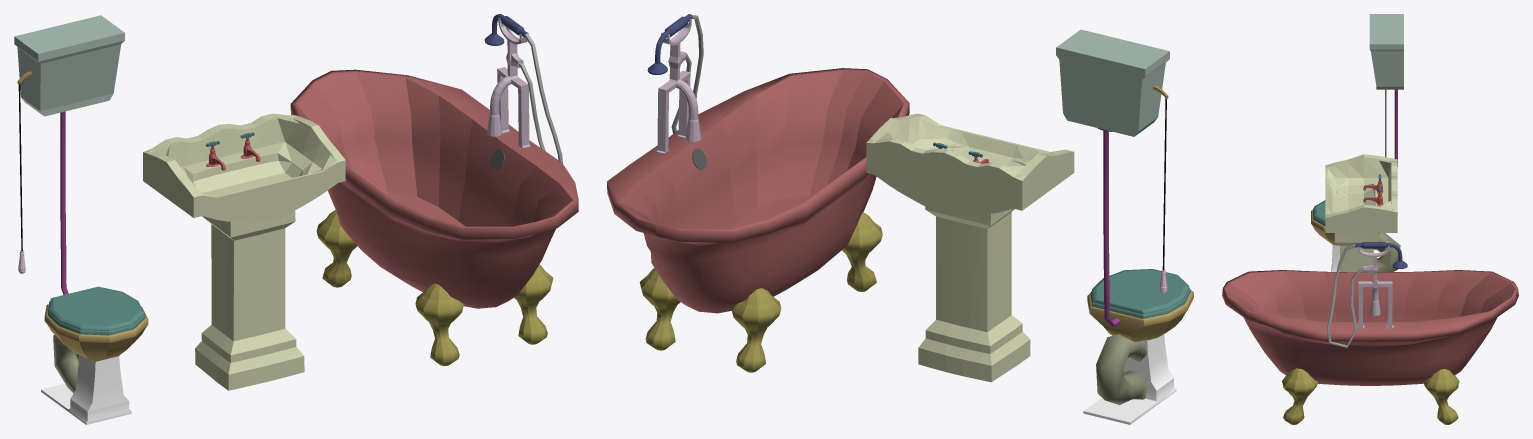
The model's file is BathroomAssets_UVDone.fbx.
3 renders of one model, left to right at view 1: azimuth 30°, elevation 25°; view 2: azimuth 150°, elevation 25°; view 3: azimuth 270°, elevation 25°, orthographic. The views are drawn at different scales.
Visible parts, largest first — view 1: Bath_Unwrapped:Bath_Body, Sink_Unwrapped_Done:Sink_Body, Toilet_Unwrapped:Toilet_AboveFlush, Toilet_Unwrapped:Toilet_Top, Toilet_Unwrapped:Toilet_Base, Bath_Unwrapped:Shower_Holder, Bath_Unwrapped:Bath_Leg1, Bath_Unwrapped:Bath_Leg3, Bath_Unwrapped:Bath_Leg2, Bath_Unwrapped:Shower_Head_Wire, Toilet_Unwrapped:Toilet_FlushPipe, Toilet_Unwrapped:Toilet_Drain (+1 smaller); view 2: Bath_Unwrapped:Bath_Body, Sink_Unwrapped_Done:Sink_Body, Toilet_Unwrapped:Toilet_AboveFlush, Toilet_Unwrapped:Toilet_Top, Toilet_Unwrapped:Toilet_Base, Bath_Unwrapped:Shower_Holder, Toilet_Unwrapped:Toilet_Drain, Bath_Unwrapped:Bath_Leg3, Bath_Unwrapped:Bath_Leg1, Bath_Unwrapped:Bath_Leg4, Toilet_Unwrapped:Toilet_FlushPipe, Bath_Unwrapped:Shower_Head (+1 smaller); view 3: Bath_Unwrapped:Bath_Body, Sink_Unwrapped_Done:Sink_Body, Toilet_Unwrapped:Toilet_AboveFlush, Bath_Unwrapped:Shower_Holder, Bath_Unwrapped:Bath_Leg2, Bath_Unwrapped:Bath_Leg4, Bath_Unwrapped:Shower_Head_Wire, Toilet_Unwrapped:Toilet_Drain, Toilet_Unwrapped:Toilet_Top, Bath_Unwrapped:Shower_Head, Toilet_Unwrapped:Toilet_FlushPipe.
Boxes of the visible parts, box(x1,y1,x2,y2) form: Bath_Unwrapped:Bath_Body: box(290, 69, 578, 308); Sink_Unwrapped_Done:Sink_Body: box(143, 113, 345, 390); Toilet_Unwrapped:Toilet_AboveFlush: box(14, 15, 124, 116); Toilet_Unwrapped:Toilet_Top: box(44, 286, 148, 361); Toilet_Unwrapped:Toilet_Base: box(41, 355, 131, 424); Bath_Unwrapped:Shower_Holder: box(487, 17, 530, 148); Bath_Unwrapped:Bath_Leg1: box(415, 283, 463, 366); Bath_Unwrapped:Bath_Leg3: box(316, 210, 356, 287); Bath_Unwrapped:Bath_Leg2: box(514, 264, 553, 344); Bath_Unwrapped:Shower_Head_Wire: box(519, 33, 562, 163); Toilet_Unwrapped:Toilet_FlushPipe: box(60, 111, 68, 294); Toilet_Unwrapped:Toilet_Drain: box(53, 335, 78, 393); Bath_Unwrapped:Bath_Body: box(607, 68, 909, 313); Sink_Unwrapped_Done:Sink_Body: box(866, 113, 1074, 382); Toilet_Unwrapped:Toilet_AboveFlush: box(1056, 29, 1169, 136); Toilet_Unwrapped:Toilet_Top: box(1087, 269, 1193, 341); Toilet_Unwrapped:Toilet_Base: box(1083, 334, 1176, 424); Bath_Unwrapped:Shower_Holder: box(656, 18, 701, 153); Toilet_Unwrapped:Toilet_Drain: box(1096, 334, 1146, 405); Bath_Unwrapped:Bath_Leg3: box(731, 288, 781, 372); Bath_Unwrapped:Bath_Leg1: box(842, 212, 882, 291); Bath_Unwrapped:Bath_Leg4: box(639, 268, 680, 350); Toilet_Unwrapped:Toilet_FlushPipe: box(1097, 128, 1120, 326); Bath_Unwrapped:Shower_Head: box(647, 14, 692, 74); Bath_Unwrapped:Bath_Body: box(1222, 270, 1518, 385); Sink_Unwrapped_Done:Sink_Body: box(1325, 154, 1397, 272); Toilet_Unwrapped:Toilet_AboveFlush: box(1369, 14, 1403, 89); Bath_Unwrapped:Shower_Holder: box(1357, 246, 1393, 328); Bath_Unwrapped:Bath_Leg2: box(1282, 368, 1317, 424); Bath_Unwrapped:Bath_Leg4: box(1423, 369, 1459, 424); Bath_Unwrapped:Shower_Head_Wire: box(1327, 244, 1363, 348); Toilet_Unwrapped:Toilet_Drain: box(1373, 233, 1400, 272); Toilet_Unwrapped:Toilet_Top: box(1311, 200, 1379, 245); Bath_Unwrapped:Shower_Head: box(1355, 242, 1407, 268); Toilet_Unwrapped:Toilet_FlushPipe: box(1394, 89, 1397, 166).
Bounding box in the file's own units: 22.59 × 15.24 × 16.06.
